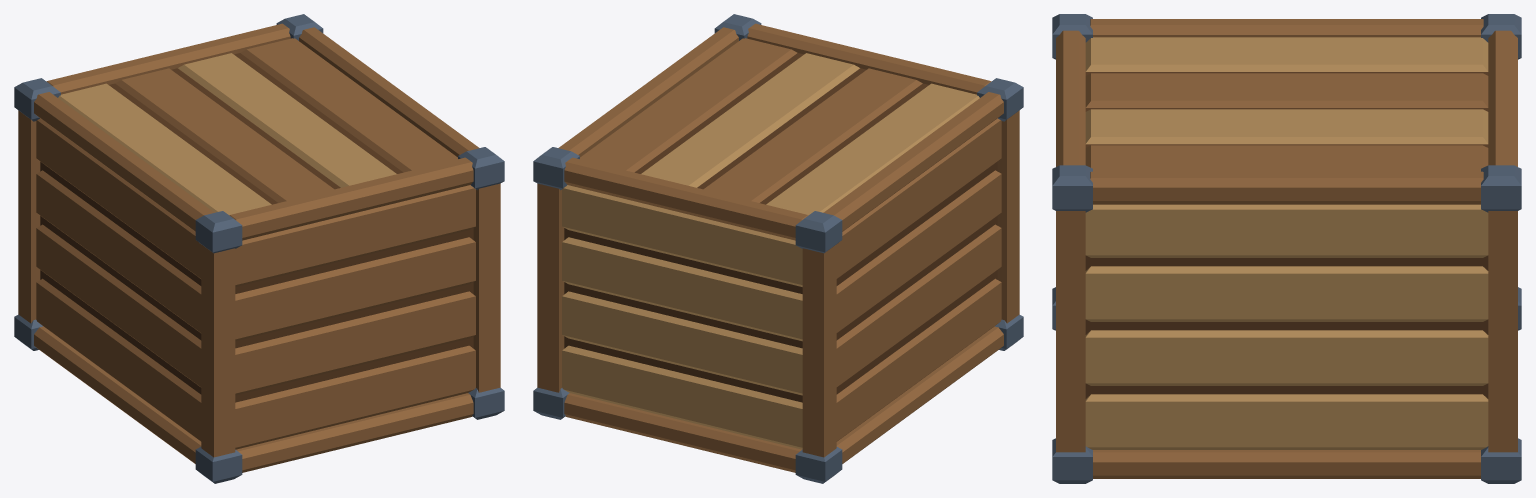
The model's file is Crate_18.glb.
3 renders of one model, left to right at view 1: azimuth 30°, elevation 25°; view 2: azimuth 150°, elevation 25°; view 3: azimuth 270°, elevation 25°, orthographic. The views are drawn at different scales.
Parts seen in each view (by area): view 1: Crate_18; view 2: Crate_18; view 3: Crate_18.
Boxes of the visible parts, x1,y1,x2,y2 form: Crate_18: (14,14,504,483); Crate_18: (533,14,1023,483); Crate_18: (1052,14,1521,483).
Bounding box in the file's own units: 2.16 × 1.85 × 2.55.
